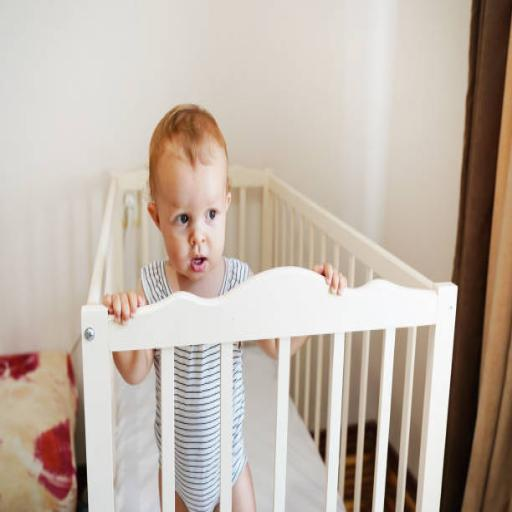baby: (103, 105, 251, 321)
crib: (82, 166, 456, 510)
